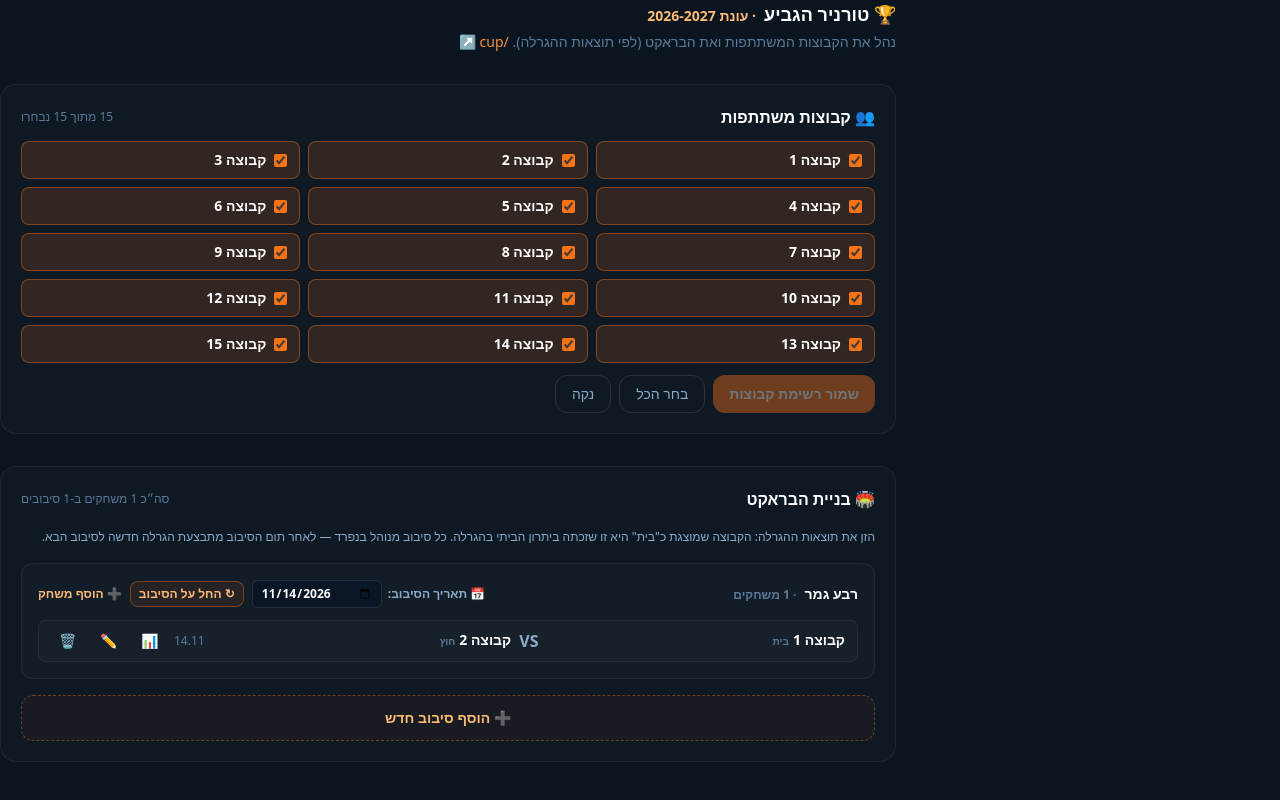
it: CupTab — game time and postponed games › saves the time, postponed flag and a preset note from the edit row
The width and height of the screenshot is (1280, 800).
Click the button titled "ערוך". click: {"x": 108, "y": 640}
box: [92,628,125,652]
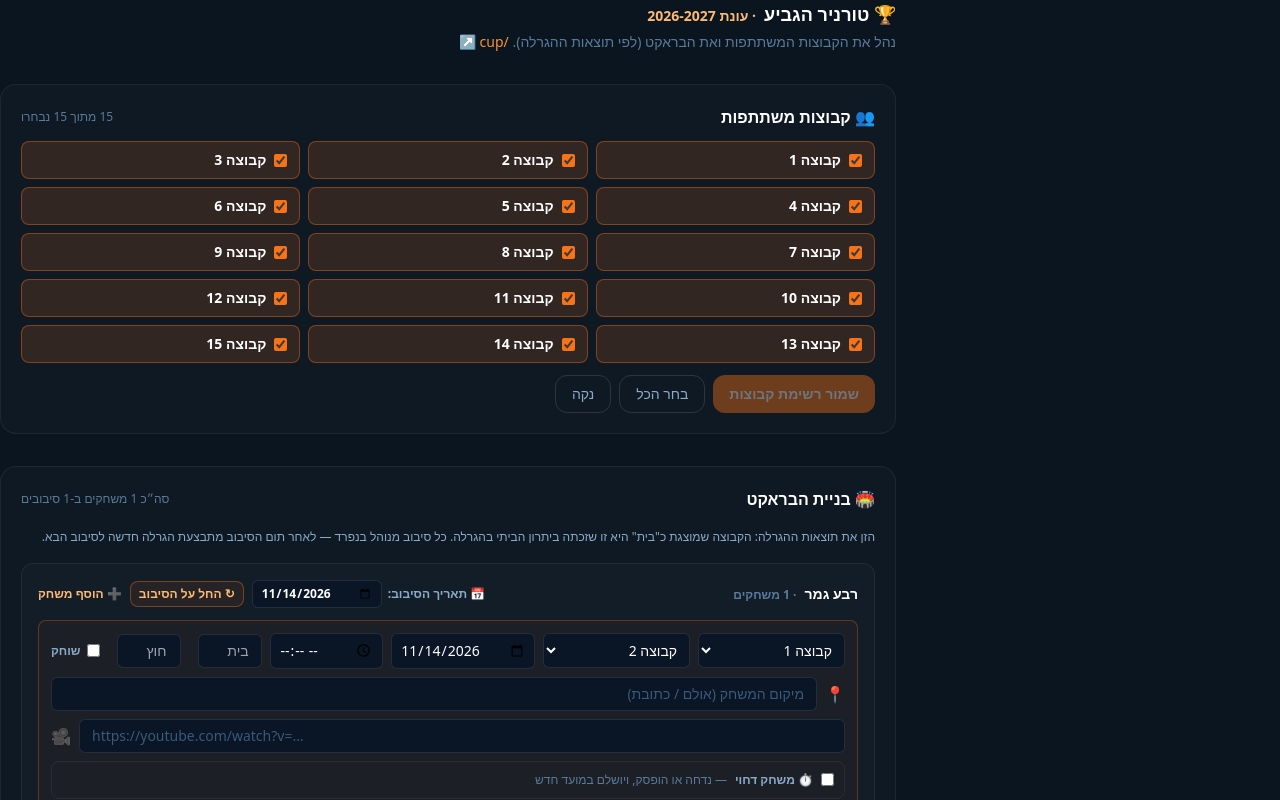
Type "20:30" into the time field named "שעת המשחק". click: {"x": 327, "y": 650}
box: [270,632,383,668]
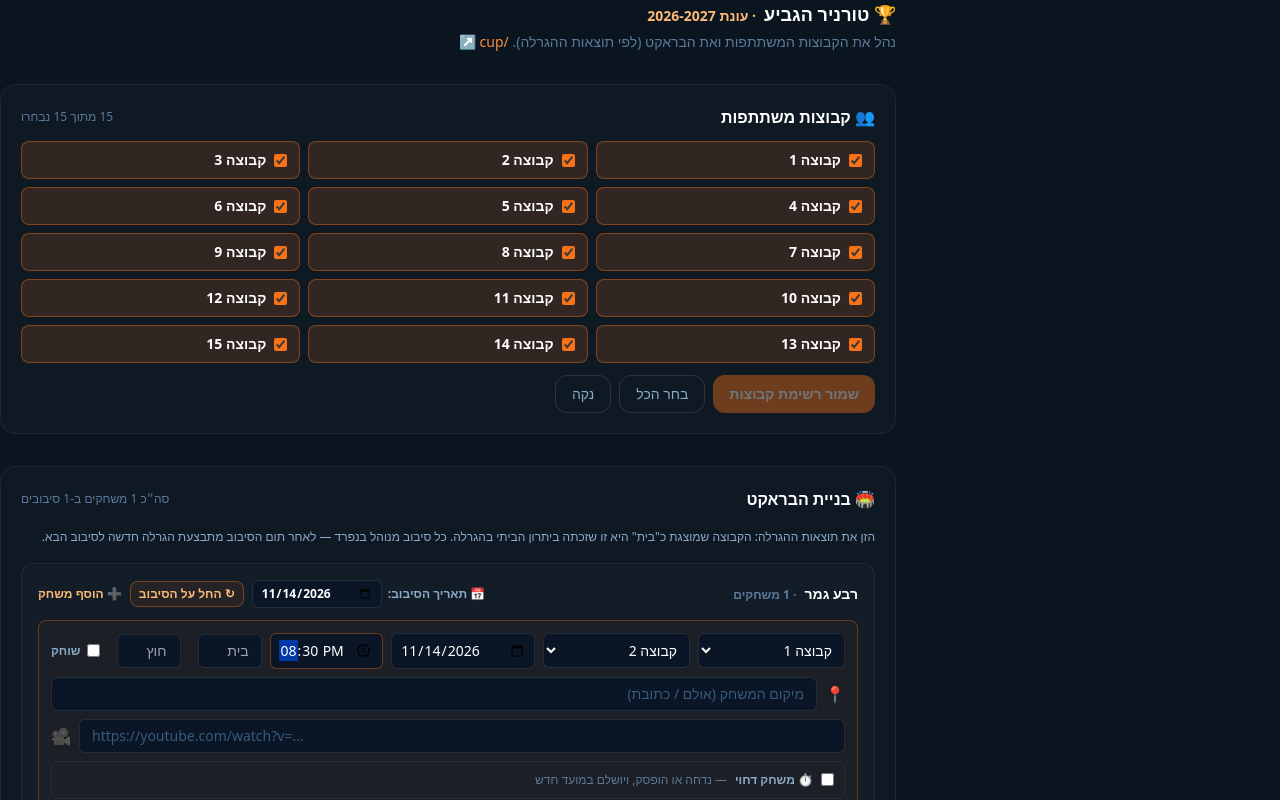
Click the checkbox labelled "⏱️ משחק דחוי — נדחה או הופסק, ויושלם במועד חדש". click: {"x": 828, "y": 780}
box: [821,773,834,786]
(page scrolled)
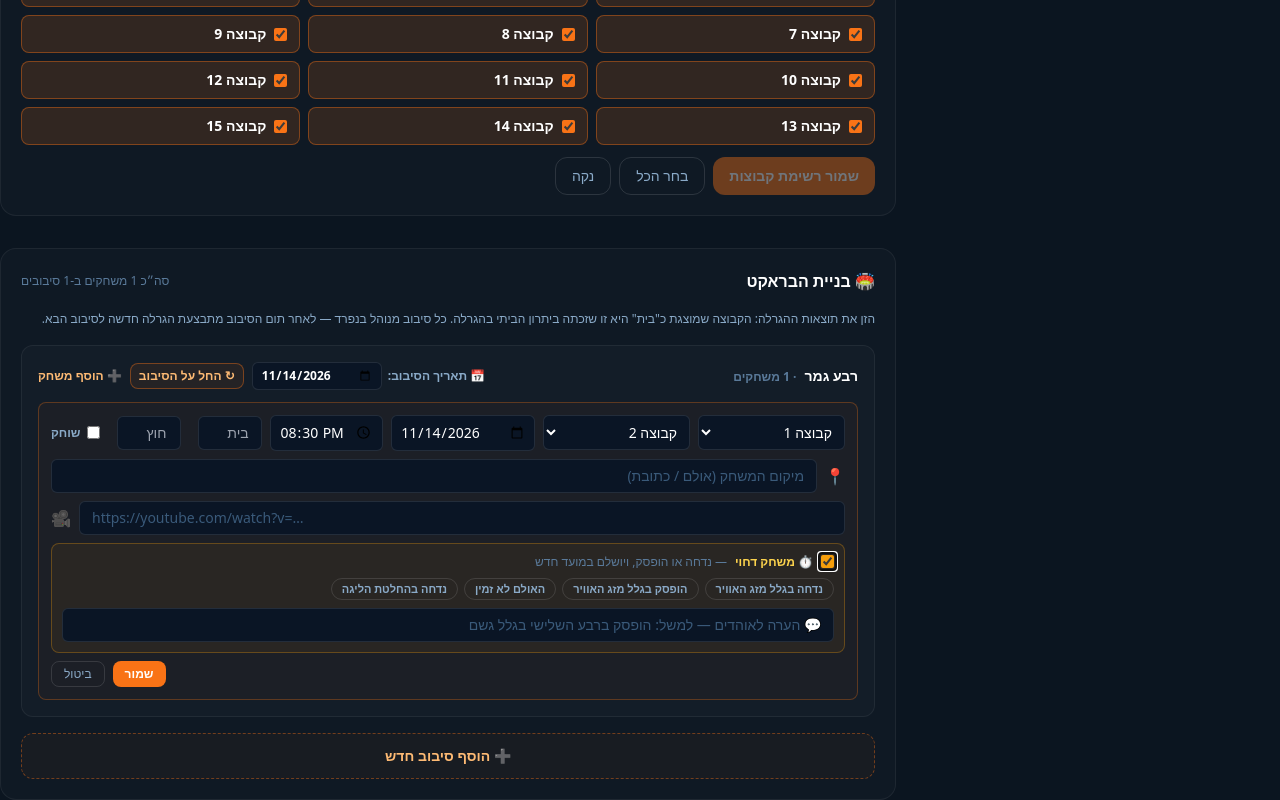
Click the button "הופסק בגלל מזג האוויר". click: {"x": 630, "y": 589}
box: [562,578,698,600]
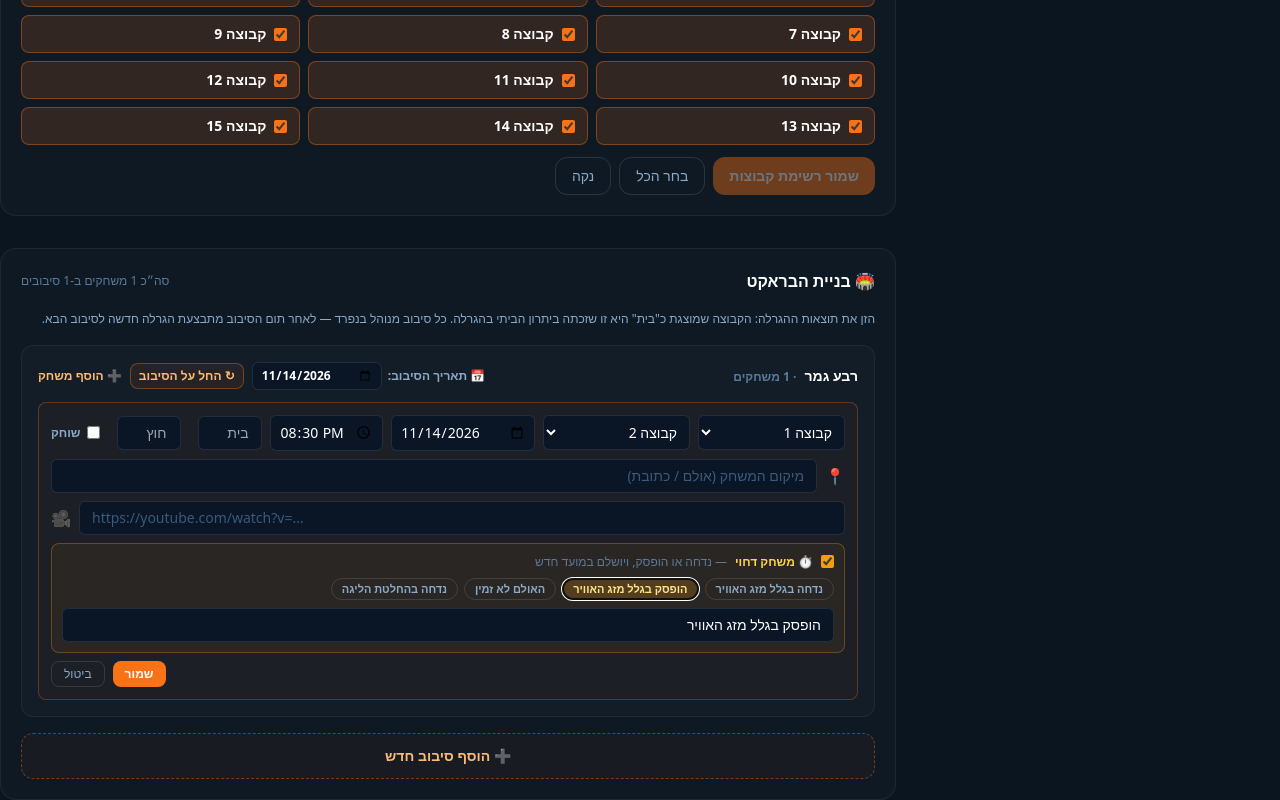
Click the button "שמור". click: {"x": 139, "y": 674}
box: [113,661,166,687]
(page scrolled)
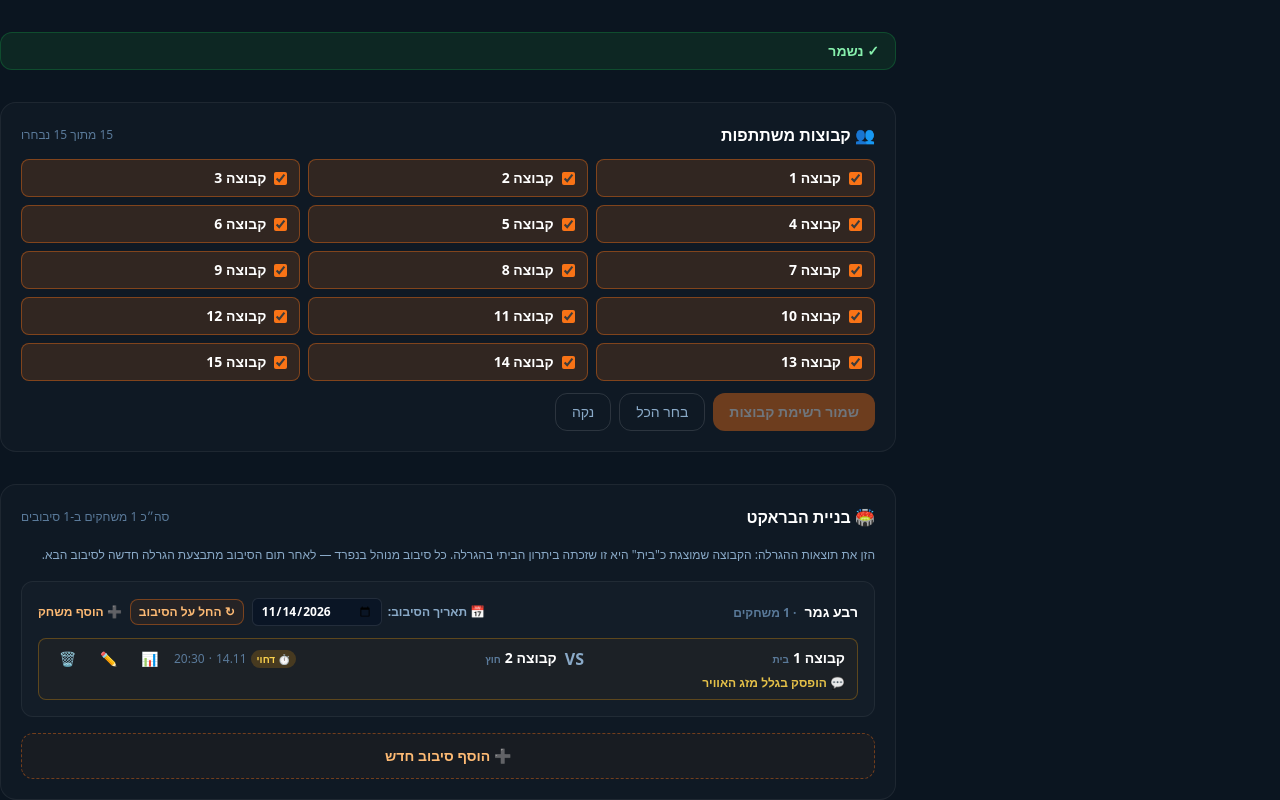
Now the text "💬 הופסק בגלל מזג האוויר" is shown, box [702,674,845,690]
